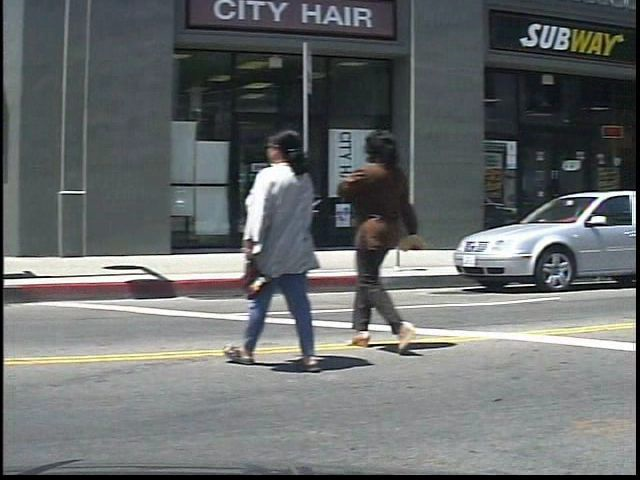person: (242, 123, 337, 373), (345, 122, 440, 356)
